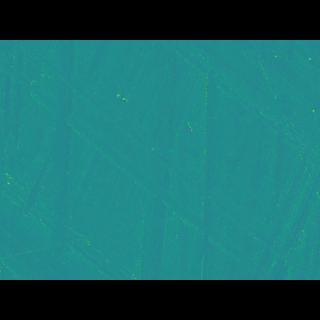Loch: (25, 77, 287, 228)
